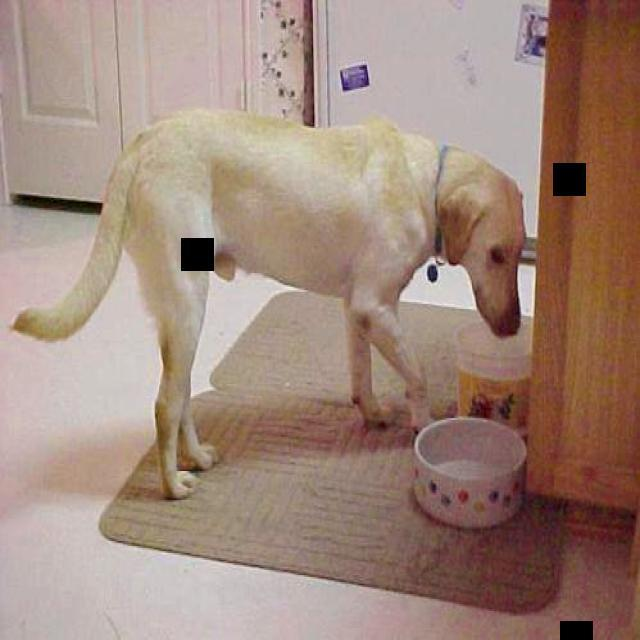adult_dog: (9, 108, 531, 501)
